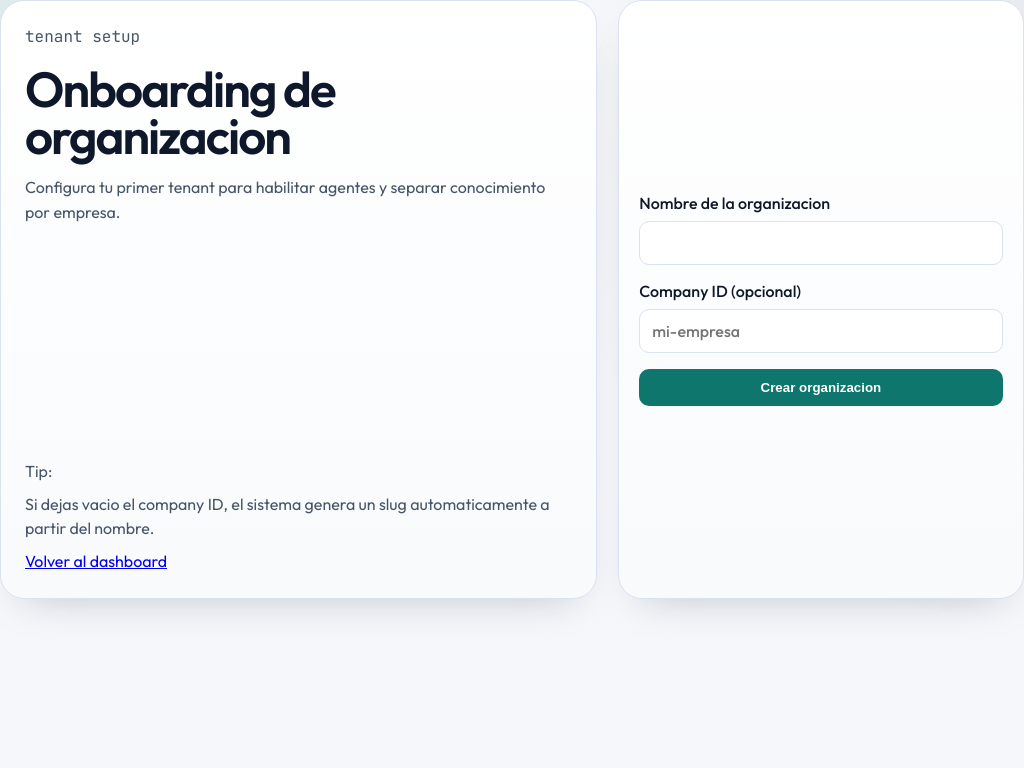
Scenario: OnboardingPage › shows conflict error when company already exists
Step 1. Type "Mi Empresa" into the field labelled "Nombre de la organizacion" → (821, 243), box [639,221,1003,265]
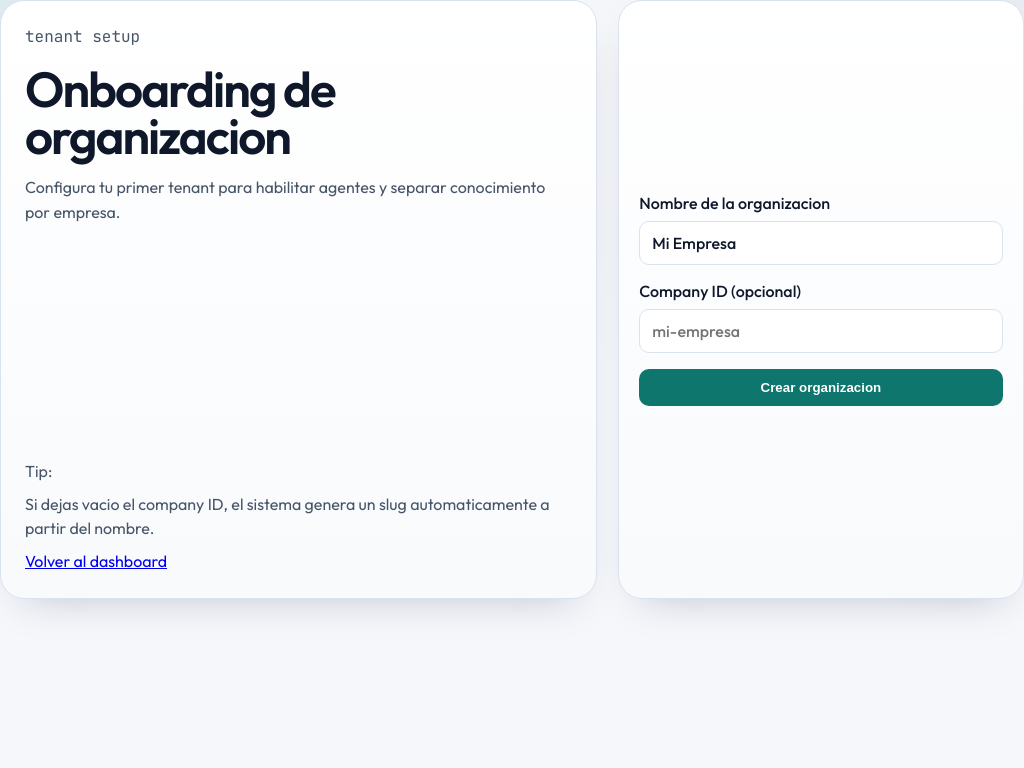
Step 2. Type "demo" into the field labelled "Company ID (opcional)" → (821, 331), box [639,309,1003,353]
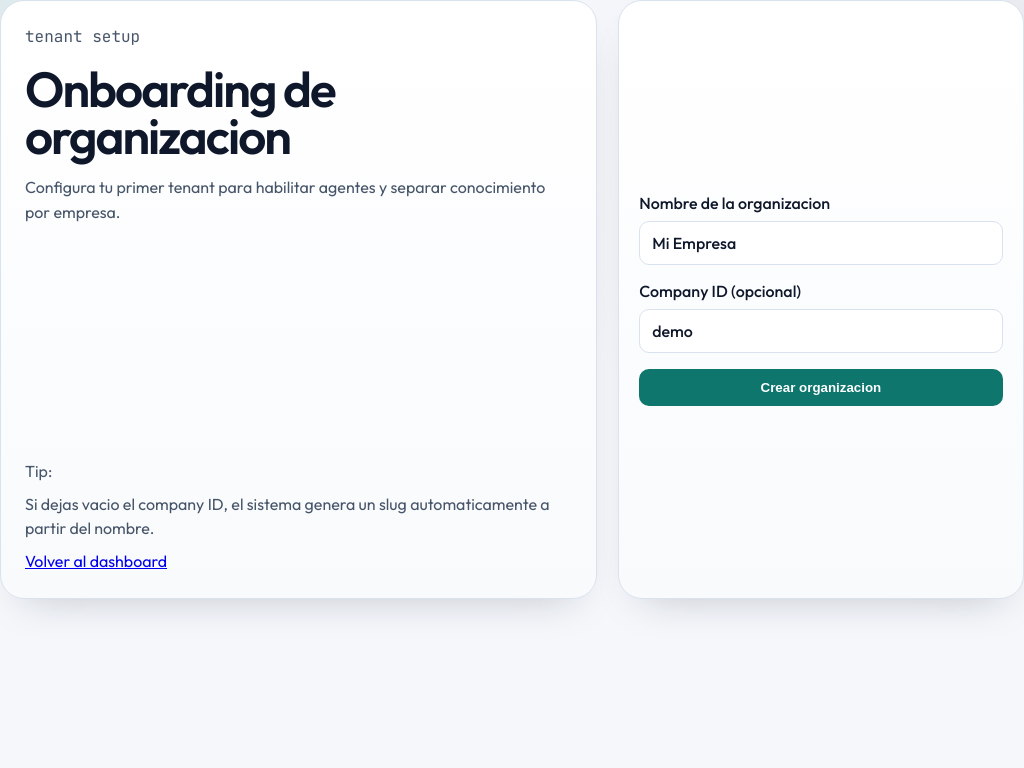
Step 3. Submit the form from the button "Crear organizacion", box [639,369,1003,406]
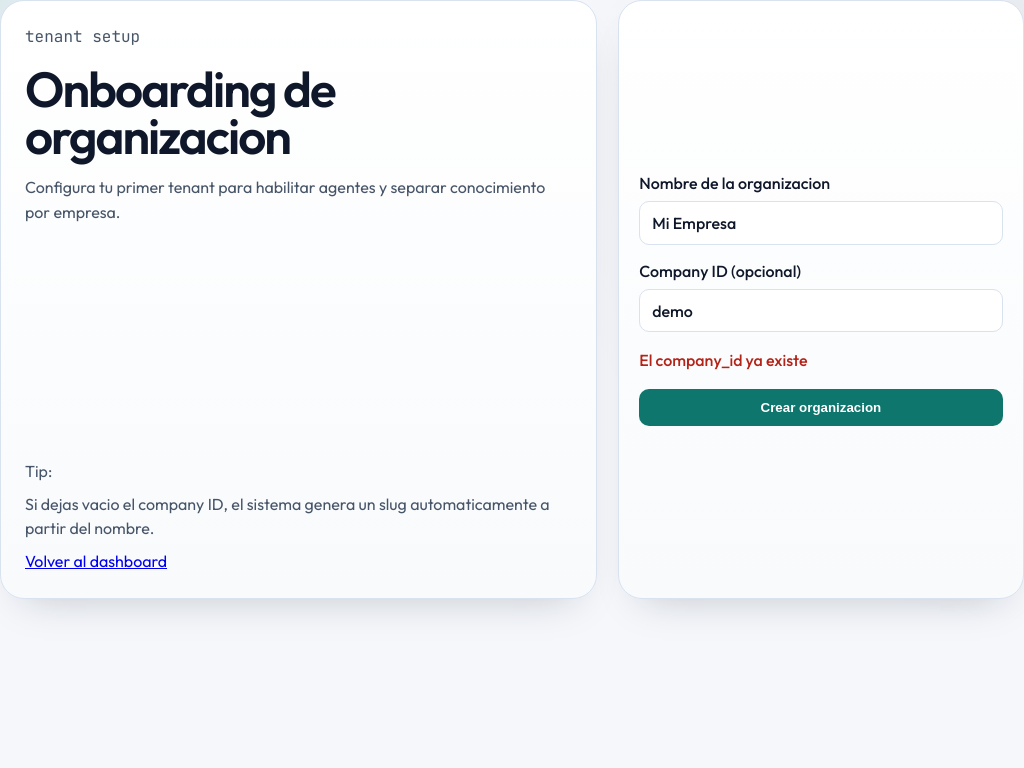
Check: the text "El company_id ya existe" is shown, box [639,350,808,370]
